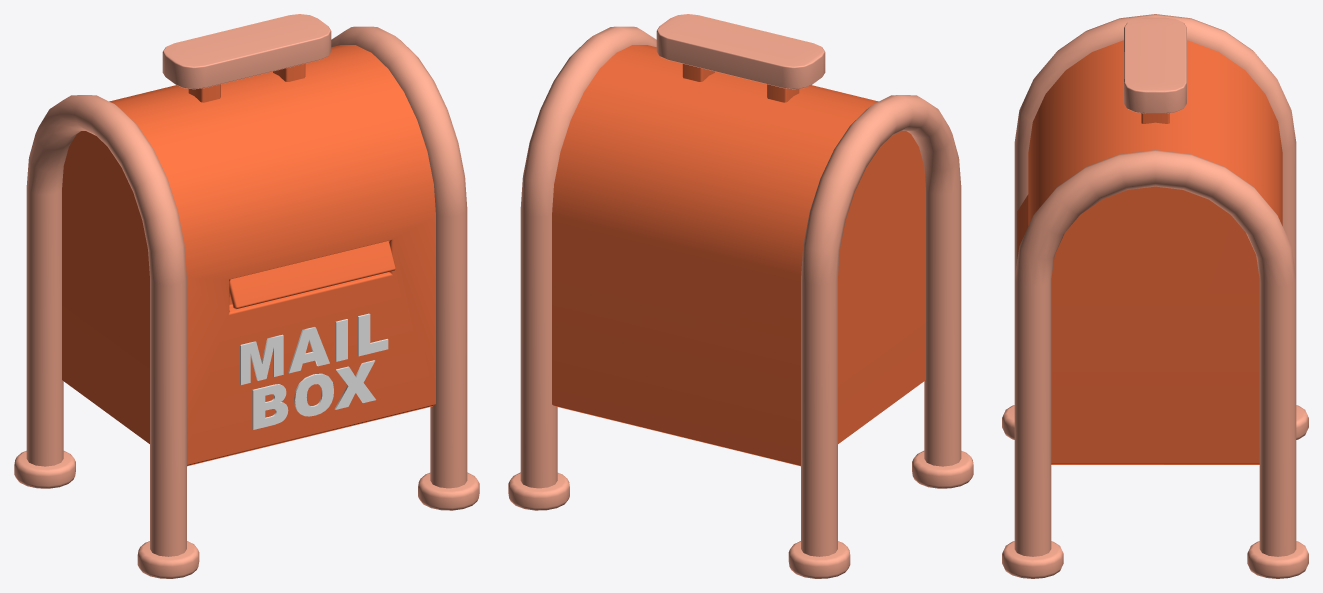
The model's file is Town_4_Mail_Box_1.glb.
3 renders of one model, left to right at view 1: azimuth 30°, elevation 25°; view 2: azimuth 150°, elevation 25°; view 3: azimuth 270°, elevation 25°, orthographic.
Visible parts, largest first — view 1: Town_4_Mail_Box_1; view 2: Town_4_Mail_Box_1; view 3: Town_4_Mail_Box_1.
Boxes of the visible parts, x1,y1,x2,y2 form: Town_4_Mail_Box_1: (14,14,479,578); Town_4_Mail_Box_1: (508,14,973,578); Town_4_Mail_Box_1: (1002,14,1308,578).
Bounding box in the file's own units: 1.26 × 1.61 × 1.01.
1 material, 1 textured.
